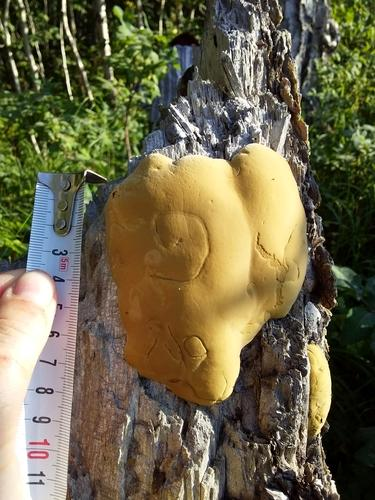Ganoderma - Fruit Body: (100, 142, 316, 408)
